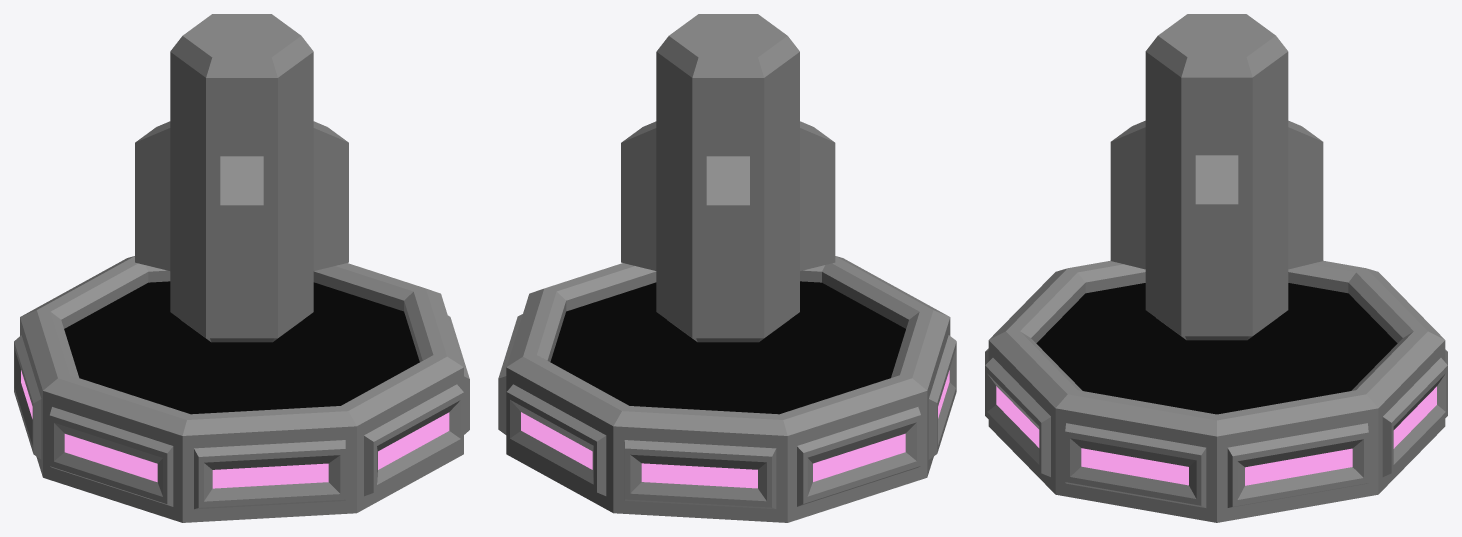
File: Rocket Launcher V3.glb
The picture shows the model from 3 angles, left to right: view 1: azimuth 30°, elevation 25°; view 2: azimuth 150°, elevation 25°; view 3: azimuth 270°, elevation 25°; orthographic projection.
Parts seen in each view (by area): view 1: Circle, rocket; view 2: Circle, rocket; view 3: Circle, rocket.
Boxes of the visible parts, box(x1,y1,x2,y2) form: Circle: box(14, 256, 469, 522); rocket: box(135, 14, 348, 342); Circle: box(498, 256, 956, 522); rocket: box(621, 14, 835, 342); Circle: box(985, 260, 1447, 522); rocket: box(1110, 14, 1323, 340).
Bounding box in the file's own units: 3.24 × 3.02 × 3.24.
